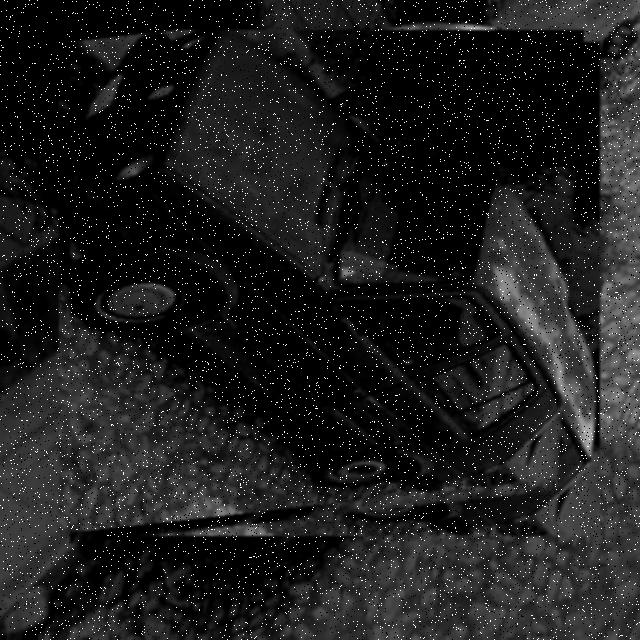car: (71, 31, 589, 549)
